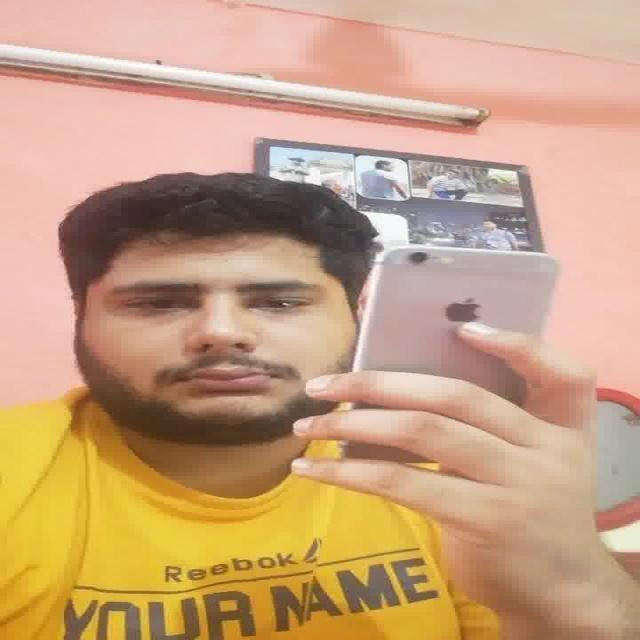Phone: (353, 245, 562, 372)
